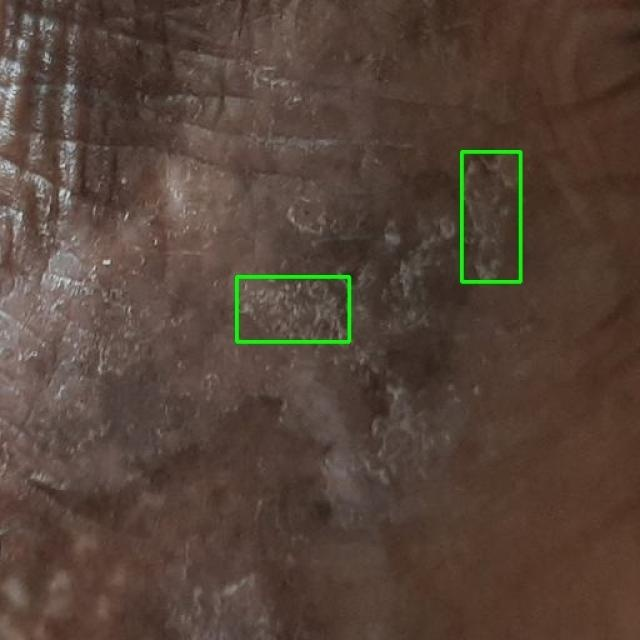Eczema: (461, 151, 520, 281), (236, 276, 349, 341)
